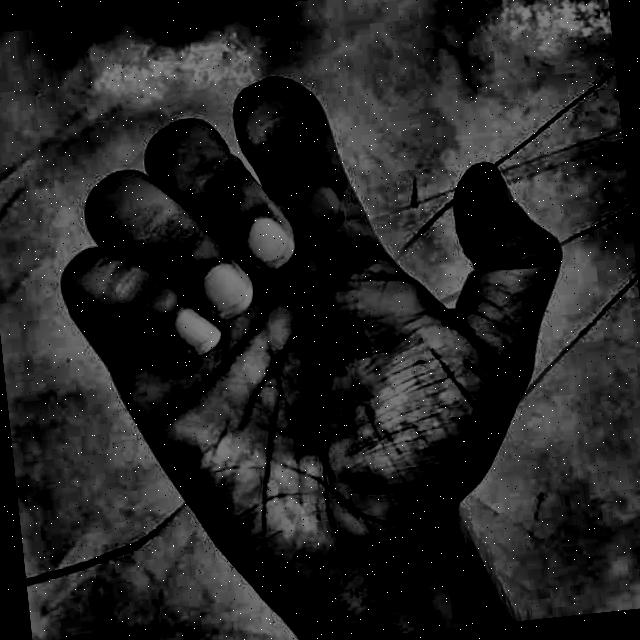Dho: (10, 26, 605, 640)
